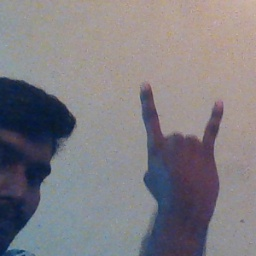V: (134, 77, 228, 209)
